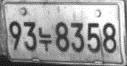3: (22, 20, 37, 51), (69, 22, 84, 52)
5: (86, 22, 101, 53)
8: (54, 21, 70, 52), (102, 22, 116, 53)
9: (8, 21, 21, 49)
누: (37, 26, 52, 52)
